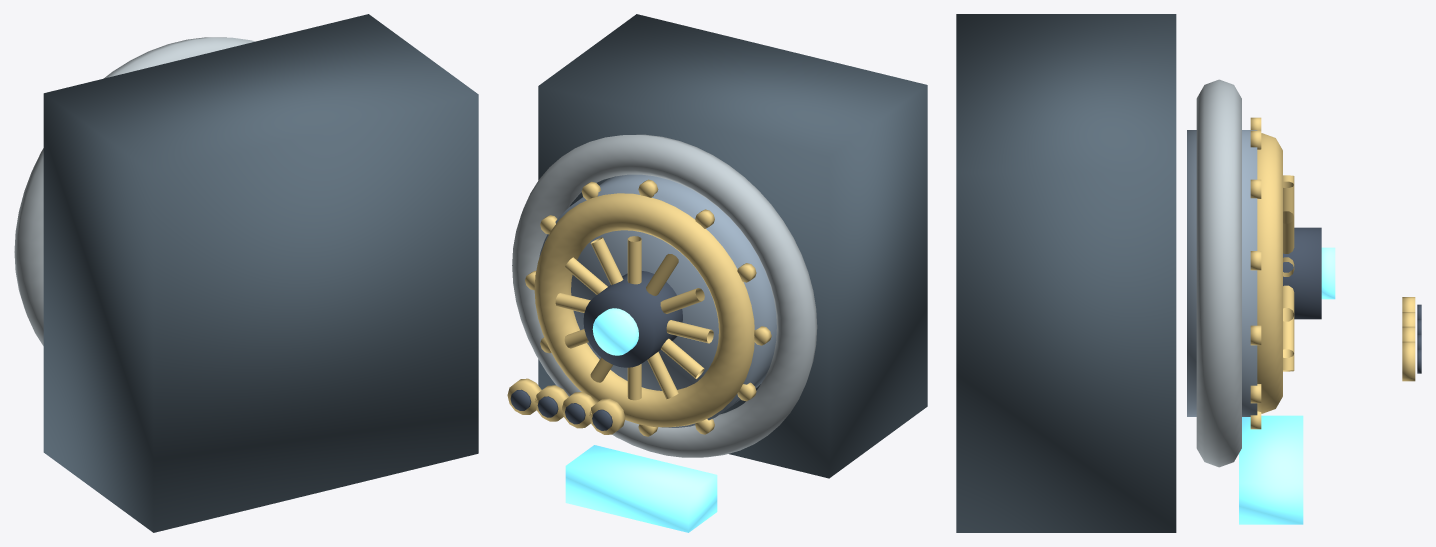
The model's file is L84_18_ReactionWheelX_Fitted.fbx.
The picture shows the model from 3 angles, left to right: view 1: azimuth 30°, elevation 25°; view 2: azimuth 150°, elevation 25°; view 3: azimuth 270°, elevation 25°; orthographic projection. The views are drawn at different scales.
Parts seen in each view (by area): view 1: L84_ReactionWheelX_Static__tint1C2933, L84_ReactionWheelX_Static__tint91A3AD; view 2: L84_ReactionWheelX_Static__tint1C2933, L84_ReactionWheelX_Static__tint91A3AD, L84_ReactionWheelX_ANIM_WHEEL_X_ROTOR__tintF2B547, L84_ReactionWheelX_ANIM_WHEEL_X_ROTOR__tint59738F, L84_ReactionWheelX_Static__tint38CCFC, L84_ReactionWheelX_Static__tintF2B547, L84_ReactionWheelX_ANIM_WHEEL_X_ROTOR__tint131B26, L84_ReactionWheelX_ANIM_WHEEL_X_ROTOR__tint38CCFC, L84_ReactionWheelX_Static__tint131B26; view 3: L84_ReactionWheelX_Static__tint1C2933, L84_ReactionWheelX_Static__tint91A3AD, L84_ReactionWheelX_ANIM_WHEEL_X_ROTOR__tintF2B547, L84_ReactionWheelX_Static__tint38CCFC, L84_ReactionWheelX_ANIM_WHEEL_X_ROTOR__tint59738F, L84_ReactionWheelX_ANIM_WHEEL_X_ROTOR__tint131B26, L84_ReactionWheelX_Static__tintF2B547, L84_ReactionWheelX_ANIM_WHEEL_X_ROTOR__tint38CCFC.
Boxes of the visible parts, left/top/right/bottom form: L84_ReactionWheelX_Static__tint1C2933: left=43, top=14, right=478, bottom=532; L84_ReactionWheelX_Static__tint91A3AD: left=14, top=37, right=255, bottom=345; L84_ReactionWheelX_Static__tint1C2933: left=538, top=14, right=927, bottom=478; L84_ReactionWheelX_Static__tint91A3AD: left=512, top=134, right=817, bottom=457; L84_ReactionWheelX_ANIM_WHEEL_X_ROTOR__tintF2B547: left=534, top=193, right=754, bottom=427; L84_ReactionWheelX_ANIM_WHEEL_X_ROTOR__tint59738F: left=539, top=174, right=776, bottom=427; L84_ReactionWheelX_Static__tint38CCFC: left=565, top=445, right=717, bottom=532; L84_ReactionWheelX_Static__tintF2B547: left=507, top=179, right=771, bottom=436; L84_ReactionWheelX_ANIM_WHEEL_X_ROTOR__tint131B26: left=583, top=271, right=682, bottom=367; L84_ReactionWheelX_ANIM_WHEEL_X_ROTOR__tint38CCFC: left=592, top=308, right=638, bottom=355; L84_ReactionWheelX_Static__tint131B26: left=510, top=389, right=612, bottom=430; L84_ReactionWheelX_Static__tint1C2933: left=956, top=14, right=1176, bottom=532; L84_ReactionWheelX_Static__tint91A3AD: left=1196, top=79, right=1241, bottom=467; L84_ReactionWheelX_ANIM_WHEEL_X_ROTOR__tintF2B547: left=1257, top=133, right=1294, bottom=413; L84_ReactionWheelX_Static__tint38CCFC: left=1239, top=415, right=1303, bottom=524; L84_ReactionWheelX_ANIM_WHEEL_X_ROTOR__tint59738F: left=1187, top=130, right=1257, bottom=416; L84_ReactionWheelX_ANIM_WHEEL_X_ROTOR__tint131B26: left=1283, top=227, right=1321, bottom=319; L84_ReactionWheelX_Static__tintF2B547: left=1250, top=117, right=1415, bottom=429; L84_ReactionWheelX_ANIM_WHEEL_X_ROTOR__tint38CCFC: left=1321, top=247, right=1335, bottom=299.
Size of the model in its own units: 12.19 by 13.78 by 14.61.
